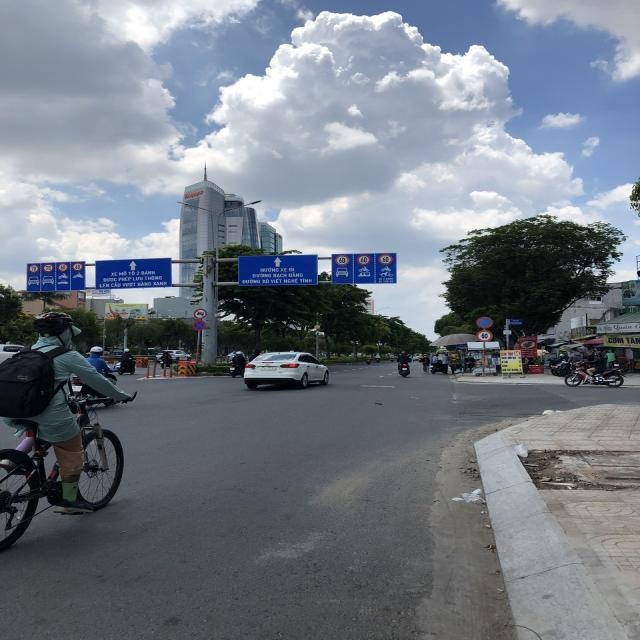Bien bao cam dung xe va do xe: (190, 319, 208, 332)
Bien bao cam xe oto tai: (192, 308, 208, 319)
Bien bao toc do toi da cho phep: (354, 253, 373, 266), (475, 330, 495, 342), (378, 252, 394, 266), (334, 254, 351, 267), (71, 261, 86, 272), (56, 262, 70, 273), (41, 263, 56, 273), (28, 263, 40, 273)
